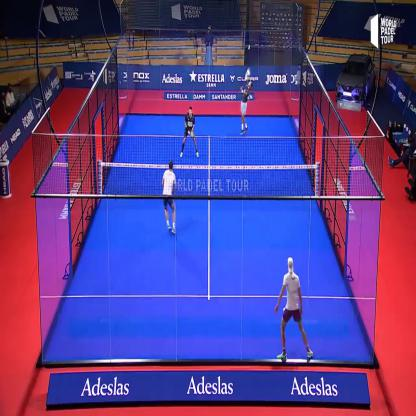ball: (246, 42, 252, 52)
